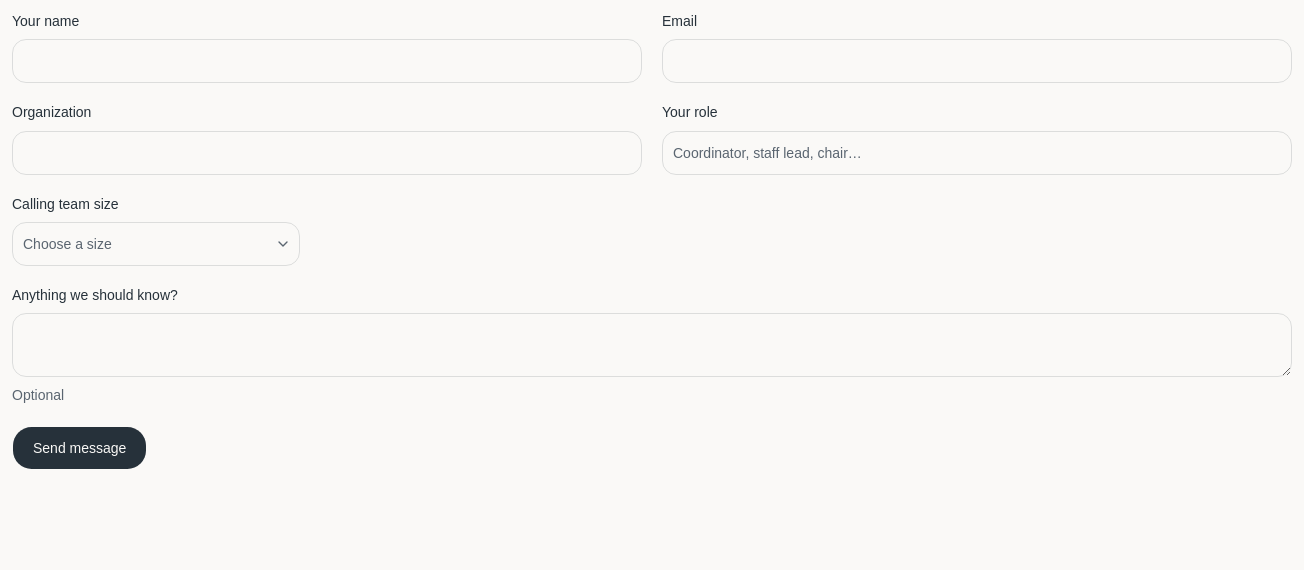
Test case: ContactForm › shows inline errors for required fields and does not submit
Step 1. Click the button "Send message" → click(80, 448), box [12,426,147,470]
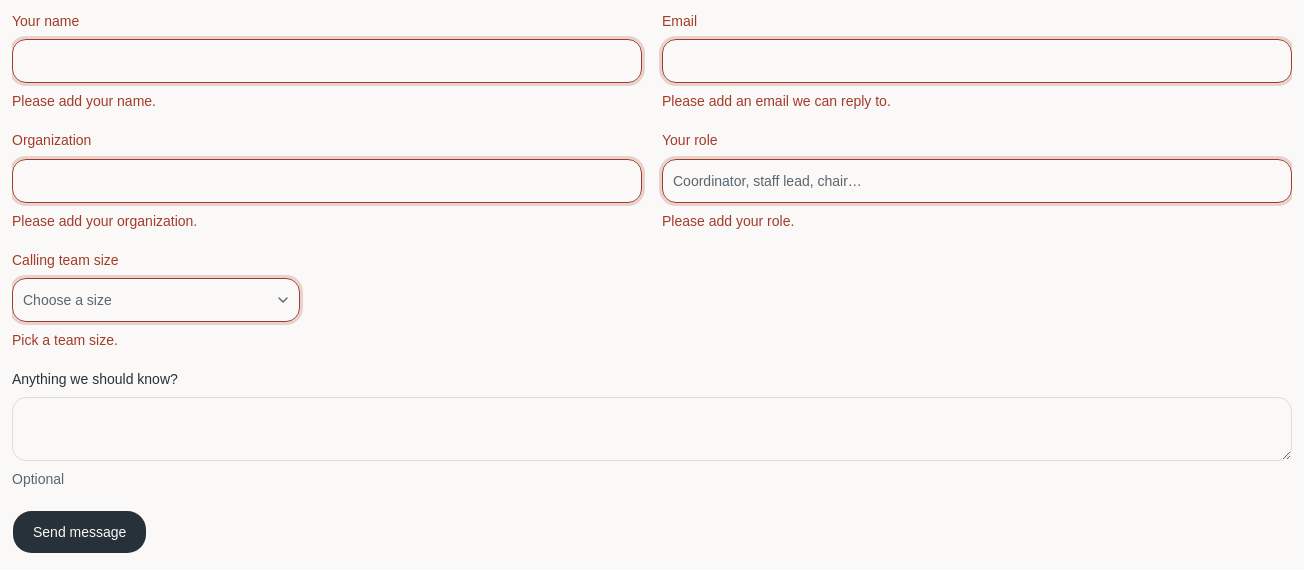
Expected: the text "Please add your name." is shown, [12,93,156,109]
Expected: the text "Pick a team size." is shown, [12,332,118,348]
